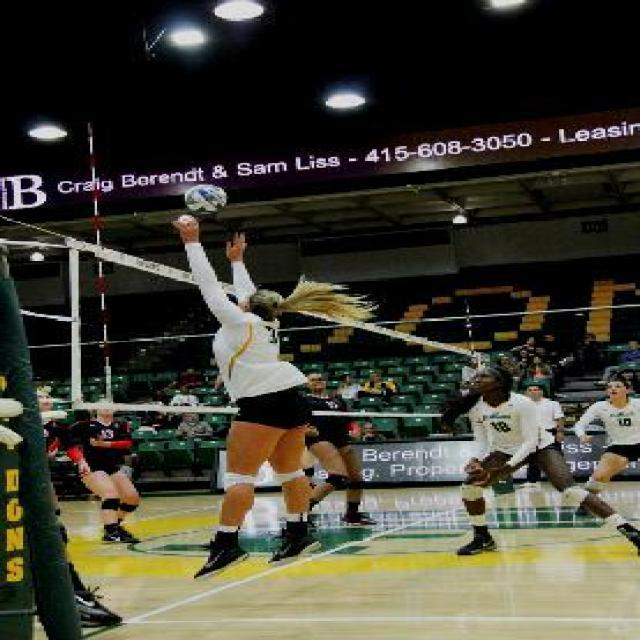volleyball: (185, 184, 226, 217)
